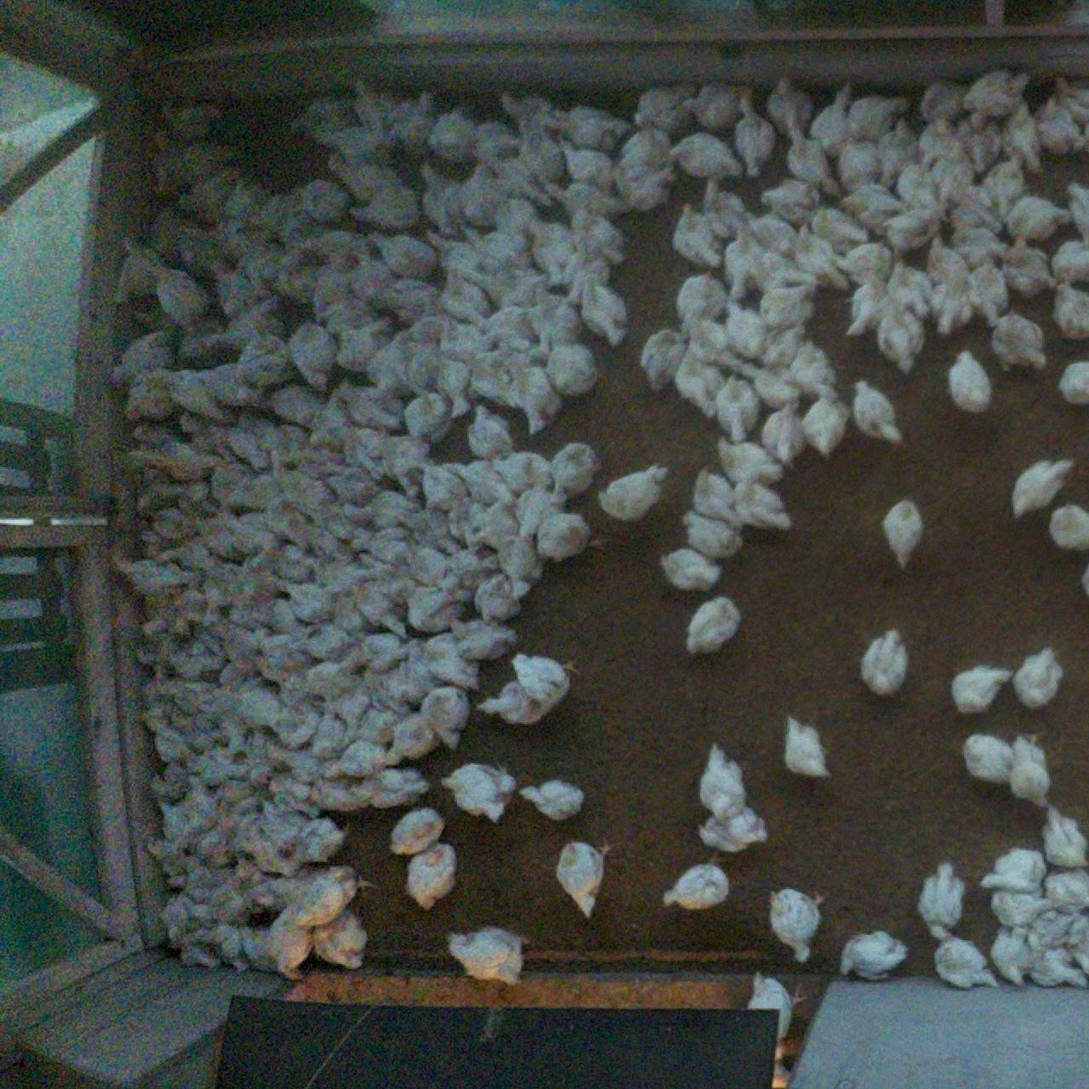chicken: (146, 138, 243, 198), (446, 928, 535, 993), (287, 865, 377, 927), (763, 883, 830, 965), (554, 837, 619, 920), (173, 163, 252, 230), (477, 148, 559, 211), (347, 162, 421, 229), (781, 124, 845, 201), (437, 760, 517, 821), (143, 258, 211, 329), (744, 970, 809, 1044), (418, 161, 477, 238), (597, 463, 671, 524), (1008, 457, 1075, 524), (217, 296, 295, 353), (258, 242, 325, 308), (132, 420, 220, 470), (796, 222, 858, 292), (511, 653, 587, 710), (111, 233, 168, 309), (523, 214, 579, 291), (875, 298, 931, 375), (349, 579, 422, 638), (523, 294, 582, 366), (376, 433, 443, 496), (329, 315, 399, 375), (227, 415, 304, 469), (110, 328, 176, 391), (554, 134, 621, 196), (192, 362, 275, 412), (402, 842, 459, 914), (805, 78, 858, 155), (444, 457, 524, 508), (208, 462, 282, 517), (843, 87, 916, 142), (859, 629, 917, 698), (251, 630, 325, 684), (579, 276, 633, 350), (164, 367, 234, 424), (918, 860, 967, 941), (212, 577, 284, 632), (715, 435, 788, 489), (546, 441, 607, 505), (698, 742, 750, 817), (401, 584, 473, 638), (961, 66, 1033, 120), (992, 309, 1050, 376), (673, 348, 726, 421), (659, 865, 736, 915), (839, 182, 910, 236), (381, 711, 447, 769), (416, 634, 491, 685), (224, 684, 296, 737), (764, 69, 814, 145), (311, 911, 374, 971), (683, 595, 746, 655), (140, 591, 214, 642), (302, 646, 367, 704), (733, 98, 780, 178), (154, 98, 229, 148), (670, 132, 745, 182), (693, 806, 771, 854), (367, 326, 419, 398), (713, 372, 765, 444), (209, 264, 278, 318), (455, 158, 509, 227), (476, 680, 549, 731), (412, 312, 491, 359), (852, 378, 905, 448), (949, 663, 1015, 719), (837, 930, 912, 979), (735, 359, 803, 413), (680, 311, 741, 371), (288, 321, 341, 390), (308, 529, 371, 587), (681, 83, 754, 133), (882, 203, 948, 258), (933, 937, 1000, 991), (690, 463, 744, 530), (544, 179, 628, 222), (123, 445, 211, 486), (753, 171, 821, 224), (568, 209, 629, 268), (385, 89, 443, 151), (945, 180, 1008, 237), (802, 388, 854, 457), (837, 130, 893, 194), (314, 460, 387, 509), (364, 226, 437, 275), (492, 446, 562, 497), (120, 554, 203, 597), (1013, 645, 1067, 711), (466, 574, 540, 622), (304, 225, 378, 273), (397, 532, 457, 591), (698, 178, 758, 237), (467, 347, 525, 408), (421, 682, 473, 750), (389, 640, 441, 708), (338, 423, 400, 480), (1009, 735, 1056, 810), (561, 104, 636, 151), (499, 90, 572, 138), (461, 222, 531, 272), (783, 716, 836, 782), (677, 271, 730, 337), (976, 846, 1052, 892), (448, 618, 524, 664), (308, 376, 360, 443), (381, 272, 448, 324), (236, 332, 299, 387), (1000, 100, 1047, 173), (332, 384, 402, 433), (282, 578, 349, 629), (132, 477, 215, 518), (1004, 189, 1072, 239), (731, 479, 795, 532), (215, 622, 267, 687), (305, 259, 357, 324), (513, 368, 565, 433), (426, 106, 483, 165), (878, 116, 924, 189), (747, 246, 820, 292), (792, 338, 842, 405), (957, 112, 1011, 174), (895, 155, 949, 217), (563, 242, 616, 305), (671, 204, 723, 268), (631, 82, 696, 133), (348, 523, 420, 569), (195, 510, 254, 566), (266, 445, 325, 501), (888, 256, 941, 318), (315, 122, 395, 163), (178, 412, 242, 463), (931, 269, 979, 337), (259, 187, 315, 245), (465, 403, 519, 463), (439, 543, 505, 592), (424, 227, 486, 279), (228, 733, 292, 783), (285, 817, 353, 864), (883, 499, 928, 570), (988, 928, 1039, 990), (346, 703, 419, 746), (946, 350, 995, 414), (681, 508, 745, 557), (614, 169, 682, 215), (639, 327, 685, 395), (121, 370, 180, 423), (267, 912, 311, 983), (286, 93, 357, 137), (1041, 804, 1089, 869), (344, 73, 396, 133), (437, 274, 497, 326), (323, 741, 397, 783), (354, 665, 416, 715), (136, 529, 208, 572), (658, 548, 726, 593), (308, 294, 384, 334), (808, 207, 874, 253), (419, 459, 473, 515), (946, 225, 1009, 273), (281, 420, 348, 465), (968, 259, 1014, 324), (722, 298, 771, 359), (406, 390, 461, 444), (515, 128, 569, 183), (212, 219, 269, 271), (387, 807, 446, 857), (535, 512, 594, 562), (844, 276, 890, 340), (359, 770, 429, 812), (465, 503, 525, 552), (988, 885, 1053, 930), (350, 251, 397, 313), (164, 676, 230, 720), (255, 542, 321, 586), (491, 531, 549, 581), (520, 778, 589, 820), (1003, 236, 1049, 299), (169, 710, 236, 753), (929, 151, 977, 211), (168, 639, 238, 680), (255, 797, 309, 850), (260, 495, 316, 546), (329, 154, 391, 200), (490, 264, 552, 310), (267, 769, 324, 819), (756, 287, 822, 330), (744, 209, 807, 254), (176, 223, 228, 277), (268, 702, 325, 751), (199, 795, 261, 840), (918, 78, 976, 126), (612, 129, 678, 171), (832, 239, 896, 282), (1033, 93, 1078, 154), (257, 592, 316, 638), (762, 405, 803, 471), (315, 675, 375, 720), (193, 562, 253, 607), (306, 777, 377, 815), (297, 617, 358, 661), (395, 505, 454, 550), (242, 835, 306, 876), (963, 735, 1014, 786), (145, 715, 198, 764), (346, 488, 418, 524), (920, 115, 974, 163), (549, 352, 604, 399), (185, 748, 251, 787), (237, 920, 282, 976), (210, 773, 272, 813), (1030, 950, 1089, 992), (147, 762, 207, 803), (982, 154, 1031, 204), (760, 324, 810, 373), (299, 177, 352, 223), (175, 319, 230, 363), (141, 206, 185, 261), (1041, 865, 1089, 915), (311, 499, 368, 541), (721, 234, 759, 297), (479, 305, 537, 346), (1049, 282, 1089, 341), (205, 923, 253, 972), (472, 113, 520, 162), (221, 178, 273, 223), (161, 894, 205, 947), (406, 347, 450, 400), (273, 665, 328, 707), (274, 386, 329, 428), (487, 191, 542, 233), (132, 635, 182, 681), (354, 544, 404, 590), (199, 885, 251, 929), (233, 859, 276, 912), (140, 502, 207, 536), (516, 484, 562, 533), (141, 677, 189, 723), (327, 588, 372, 637), (308, 717, 359, 760), (246, 878, 303, 916), (190, 828, 245, 867), (237, 509, 285, 553), (926, 237, 974, 281), (164, 866, 236, 895), (358, 632, 414, 669), (1023, 910, 1075, 949), (442, 505, 485, 552), (144, 837, 194, 877), (268, 746, 325, 781), (445, 357, 478, 417), (1049, 505, 1089, 554), (158, 800, 206, 840), (1054, 357, 1089, 408), (184, 774, 218, 825), (1050, 240, 1089, 284), (176, 928, 215, 969), (1056, 74, 1089, 121), (1067, 181, 1089, 247), (1069, 913, 1089, 976), (1077, 120, 1089, 156), (1081, 562, 1089, 600), (244, 853, 269, 854)
